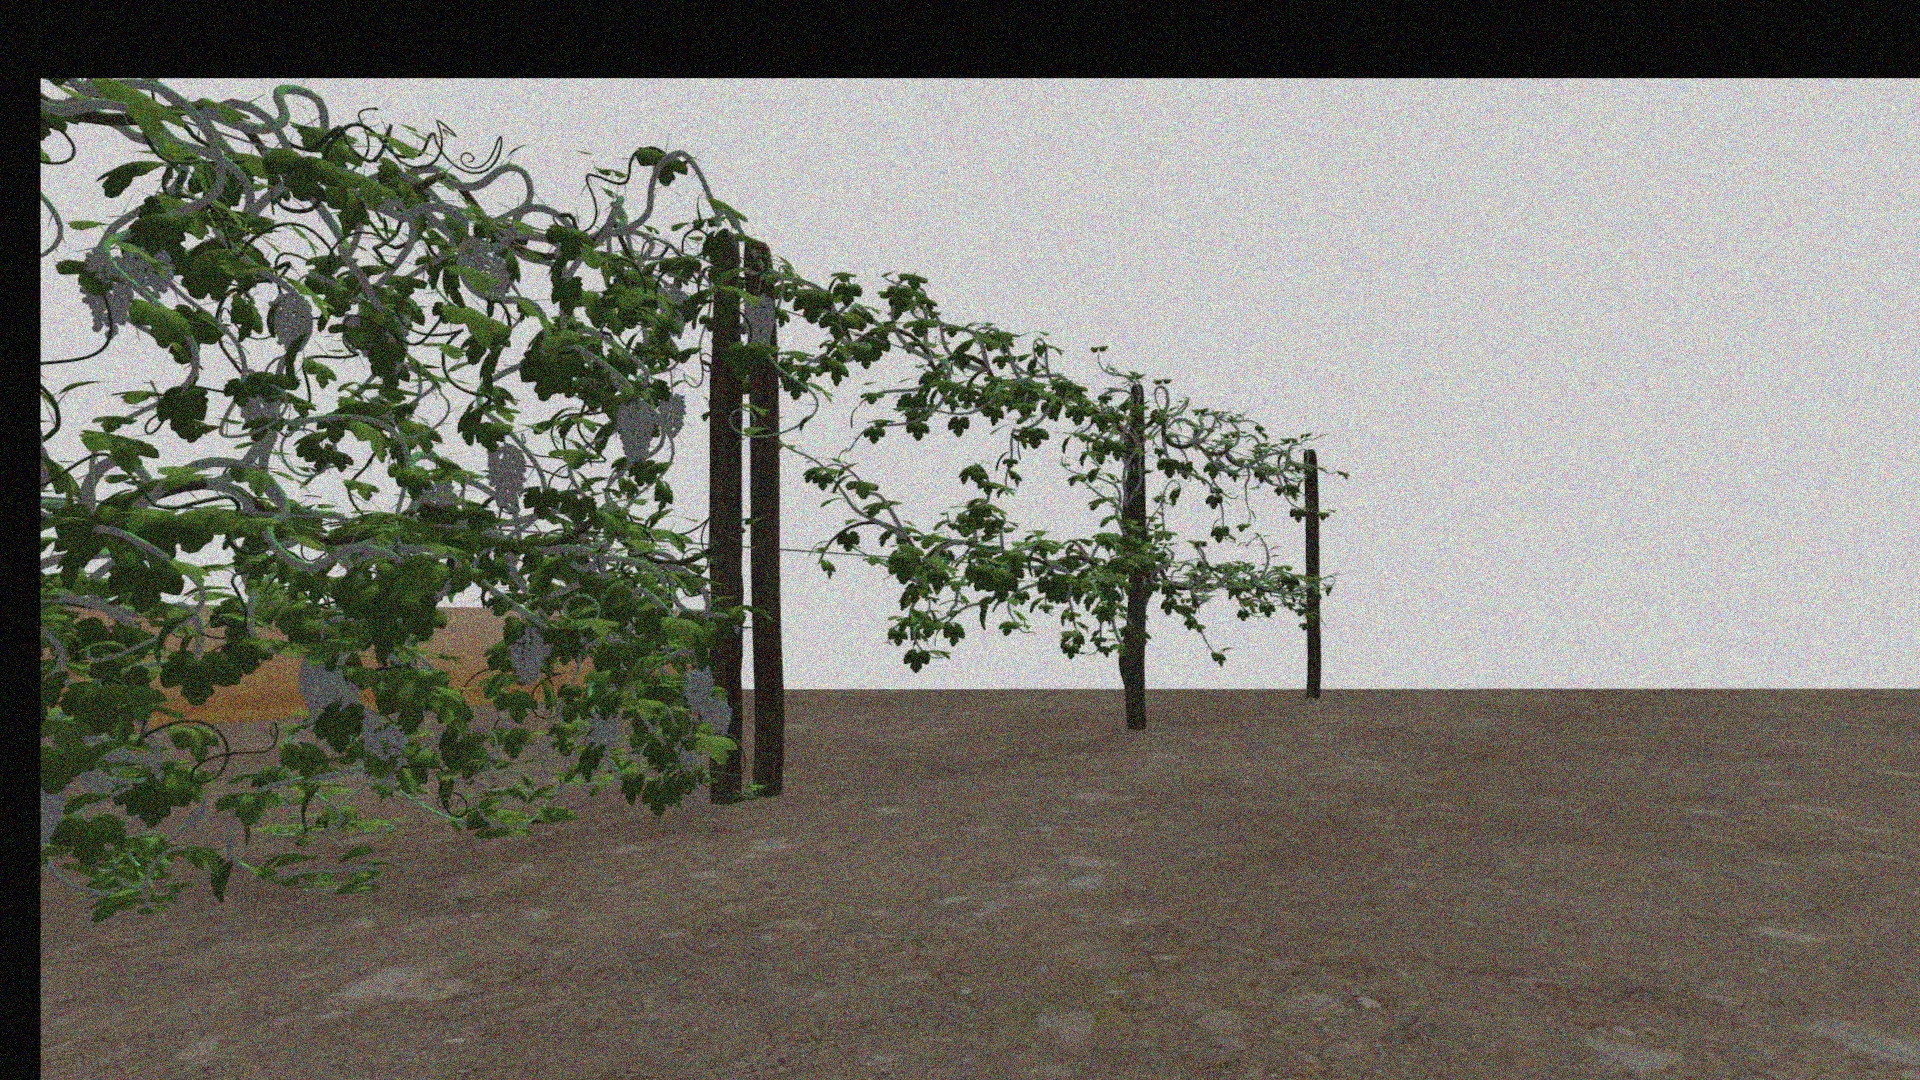grape: (79, 249, 131, 338), (295, 655, 342, 717), (615, 400, 655, 469), (487, 440, 526, 512), (272, 290, 311, 353), (508, 625, 545, 687), (131, 252, 174, 298), (360, 720, 405, 762), (742, 295, 775, 345), (655, 390, 686, 439), (680, 669, 713, 712), (700, 699, 731, 736), (589, 713, 618, 749)
